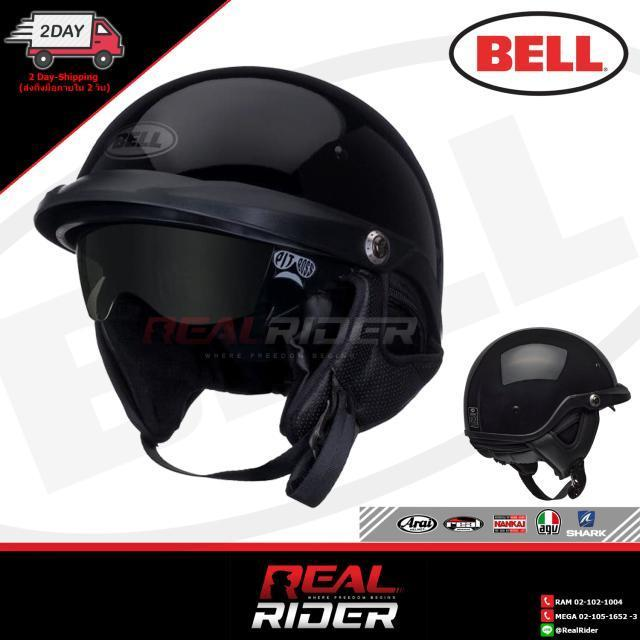helmet on: (36, 69, 444, 449), (465, 329, 631, 501)
